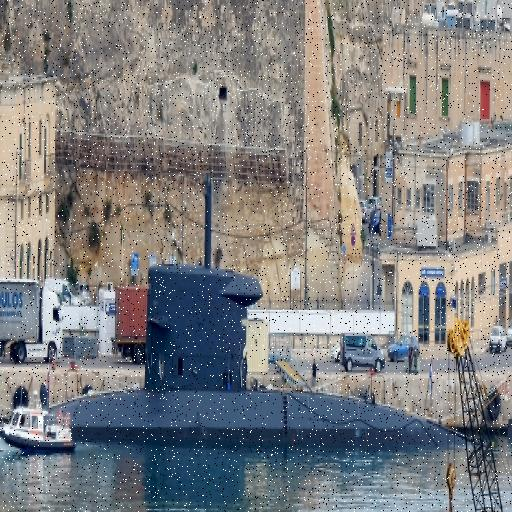submarine: (35, 264, 472, 446)
